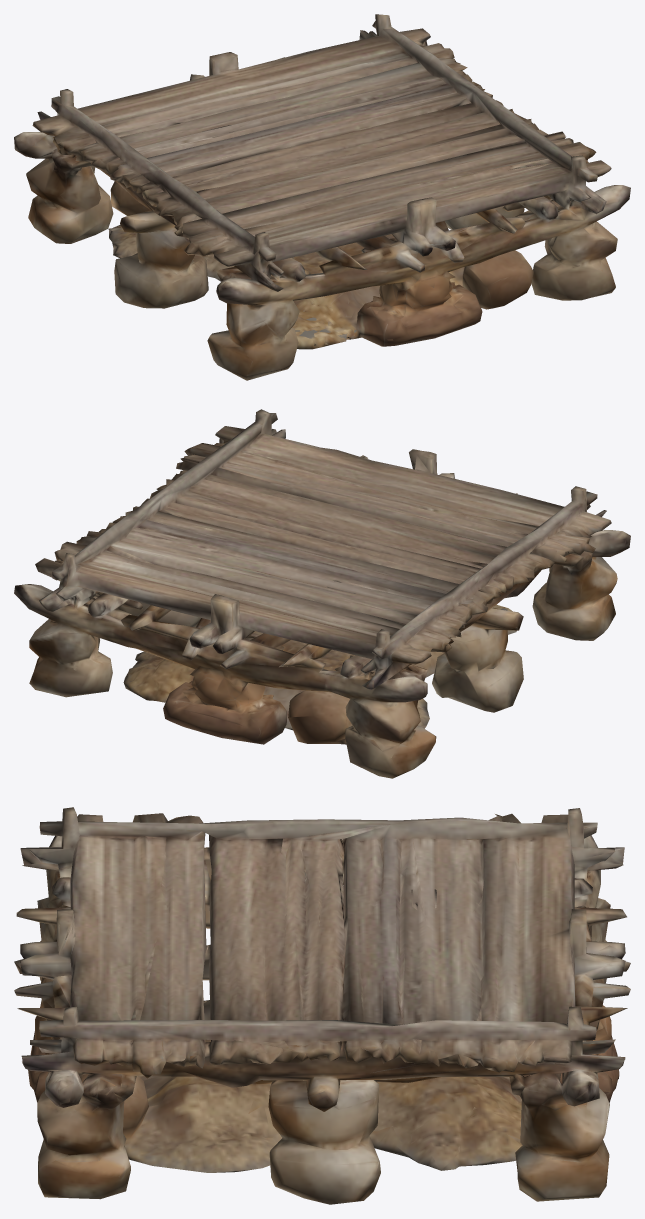
File: 2_fondations.glb
The picture shows the model from 3 angles, top to bottom: view 1: azimuth 30°, elevation 25°; view 2: azimuth 150°, elevation 25°; view 3: azimuth 270°, elevation 25°; orthographic projection. The views are drawn at different scales.
Parts seen in each view (by area): view 1: rock; view 2: rock; view 3: rock.
Part boxes in pixels (left/top/right/bottom): rock: left=14, top=14, right=630, bottom=380; rock: left=14, top=409, right=630, bottom=778; rock: left=14, top=807, right=630, bottom=1204.
Size of the model in its own units: 0.9517 by 0.2974 by 0.9559.
Materials: 1 (1 with a texture image).
